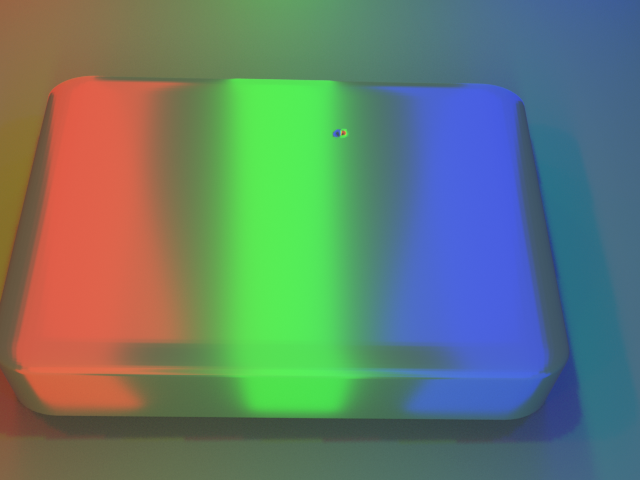dent: (324, 106, 357, 149)
